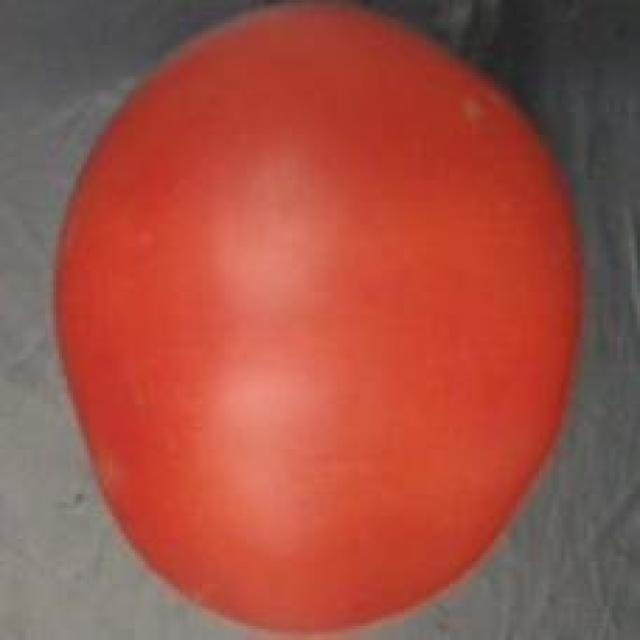ripe tomato: (42, 0, 598, 637)
